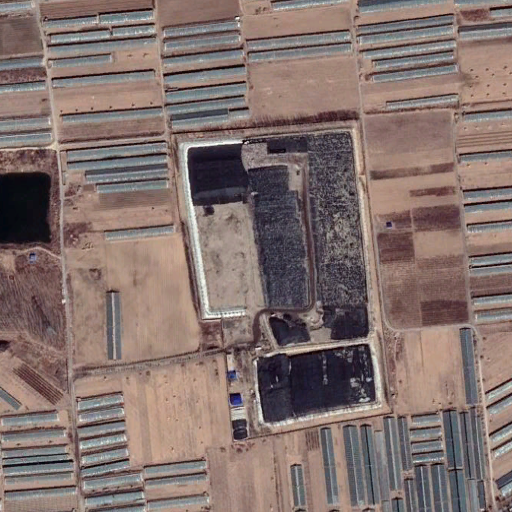lf: (182, 131, 372, 345), (255, 343, 384, 431)
